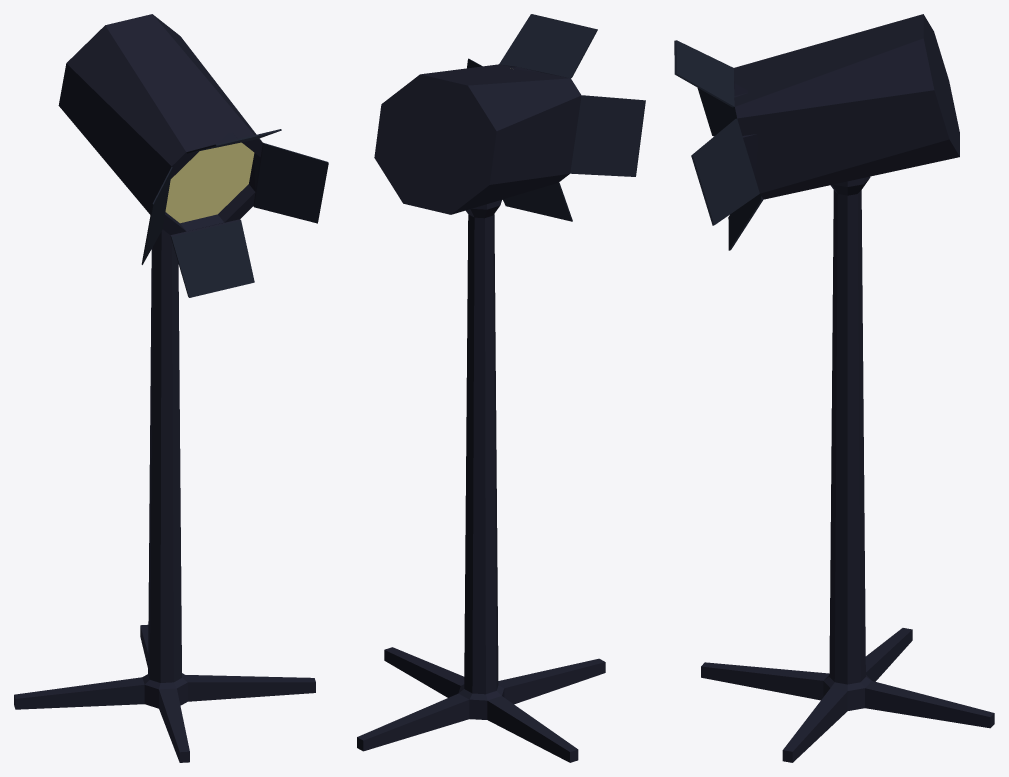
The model's file is Furniture_StageLights01.fbx.
3 renders of one model, left to right at view 1: azimuth 30°, elevation 25°; view 2: azimuth 150°, elevation 25°; view 3: azimuth 270°, elevation 25°, orthographic. The views are drawn at different scales.
Parts seen in each view (by area): view 1: Cylinder.202; view 2: Cylinder.202; view 3: Cylinder.202.
Boxes of the visible parts, x1=… form: Cylinder.202: x1=14, y1=14, x2=328, y2=762; Cylinder.202: x1=357, y1=14, x2=645, y2=762; Cylinder.202: x1=674, y1=14, x2=994, y2=762.
Bounding box in the file's own units: 51.02 × 129 × 55.61.
